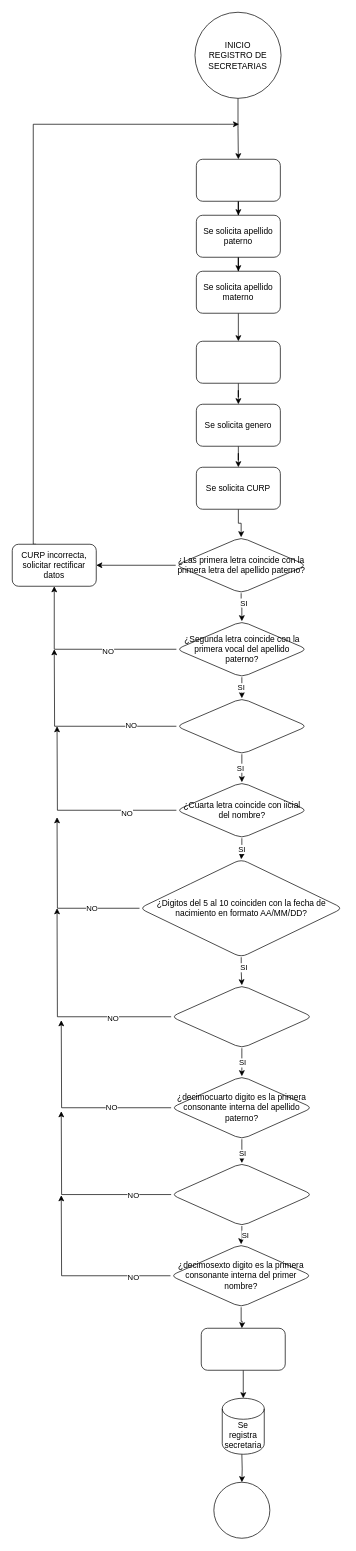
Image size: 356x1551. Some labels were removed from this diagram. Each missing label, with the centre of its shape:
FIN: [241,1510]
Se presiona botón de guardar: [243,1349]
Se solicita fecha de nacimiento: [238,362]
Se solicita nombres: [238,180]
¿decimoprimer digito es una letra y coincide con el genero?: [241,1016]
¿decimoquinto digito es la primera consonante interna del apellido materno?: [241,1194]
¿Tercera letra coincide con primera letra del apellido materno?: [241,726]
